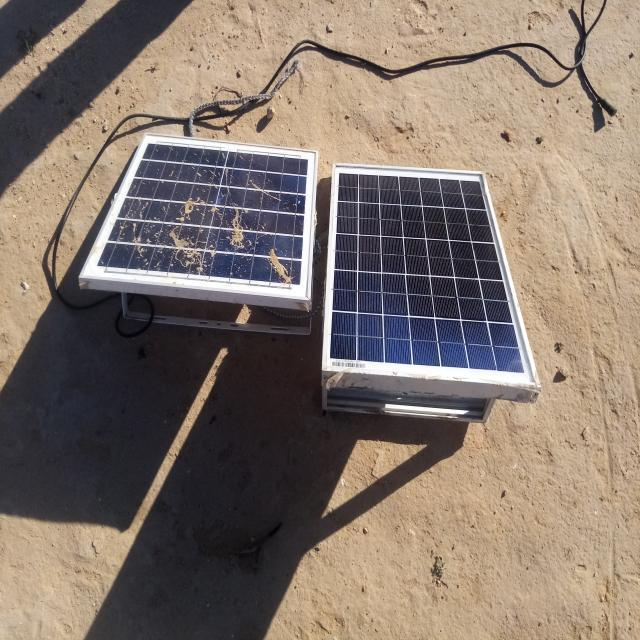Normal Solar Panel: (323, 165, 538, 387)
